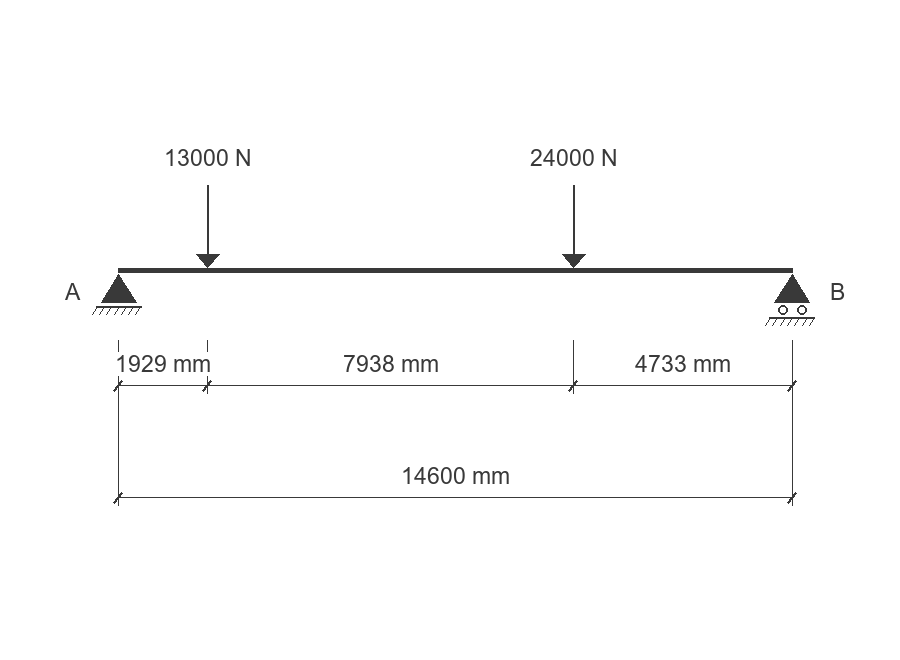pin_support: (92, 274, 142, 315)
point_load: (196, 185, 220, 268), (562, 185, 586, 268)
roller_support: (765, 274, 815, 326)
